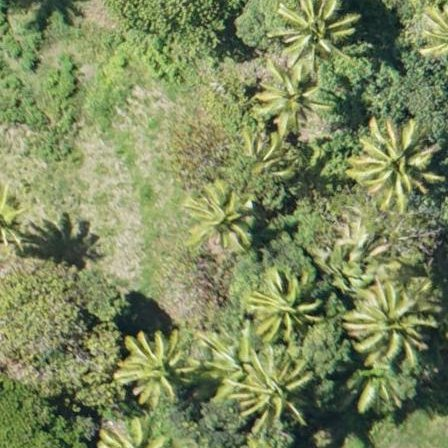palm_tree: (353, 279, 429, 360), (359, 124, 435, 205), (118, 329, 189, 405), (186, 178, 252, 250), (256, 55, 322, 125), (241, 354, 301, 418), (284, 1, 345, 61), (255, 277, 314, 339)
